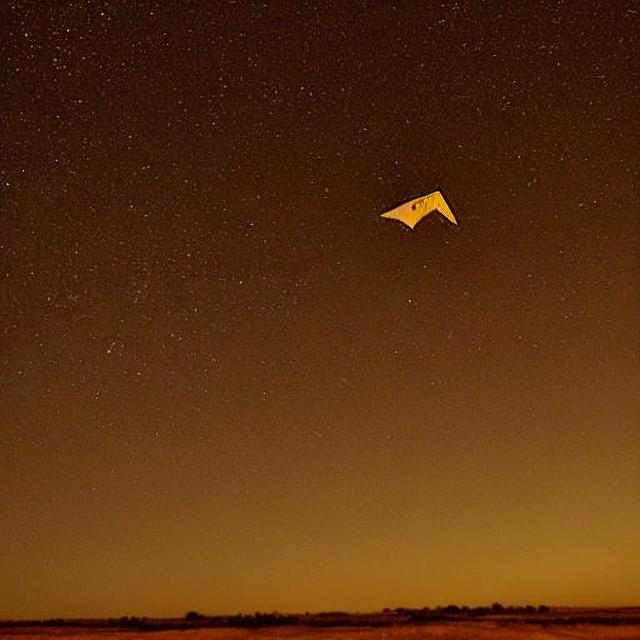floating object: (377, 187, 462, 236)
